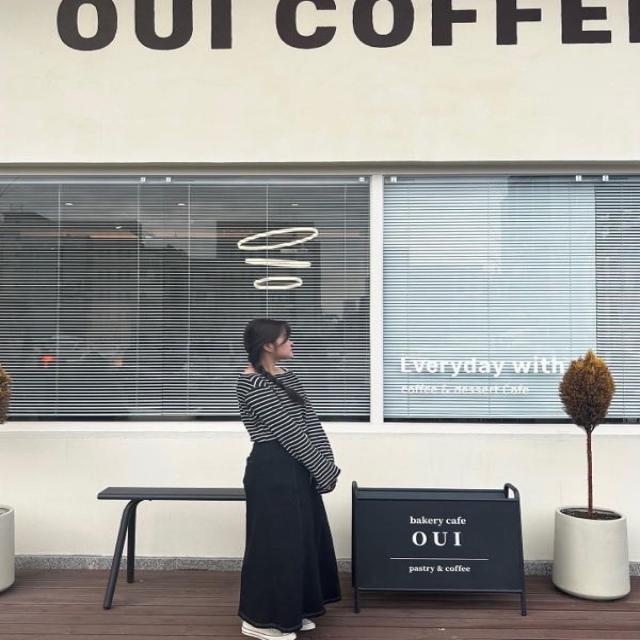longsleeve: (234, 368, 336, 492)
skirt: (242, 440, 341, 630)
